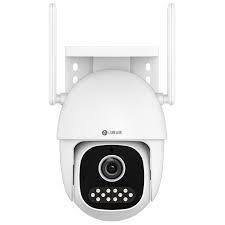maru: (42, 39, 178, 224)
